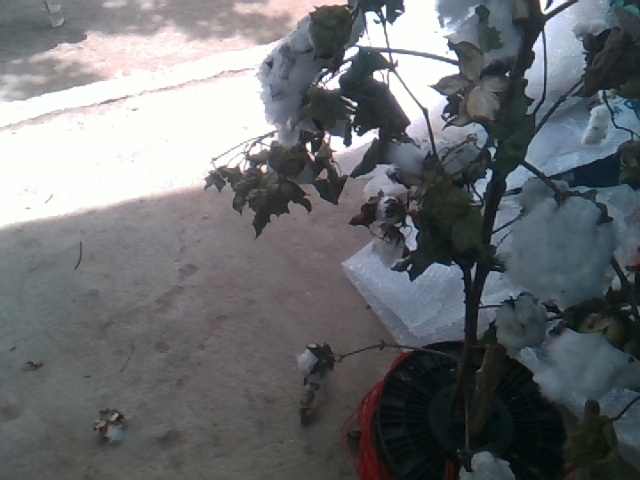cotton: (510, 197, 613, 303), (255, 13, 322, 151), (536, 329, 633, 402), (495, 293, 548, 346)
